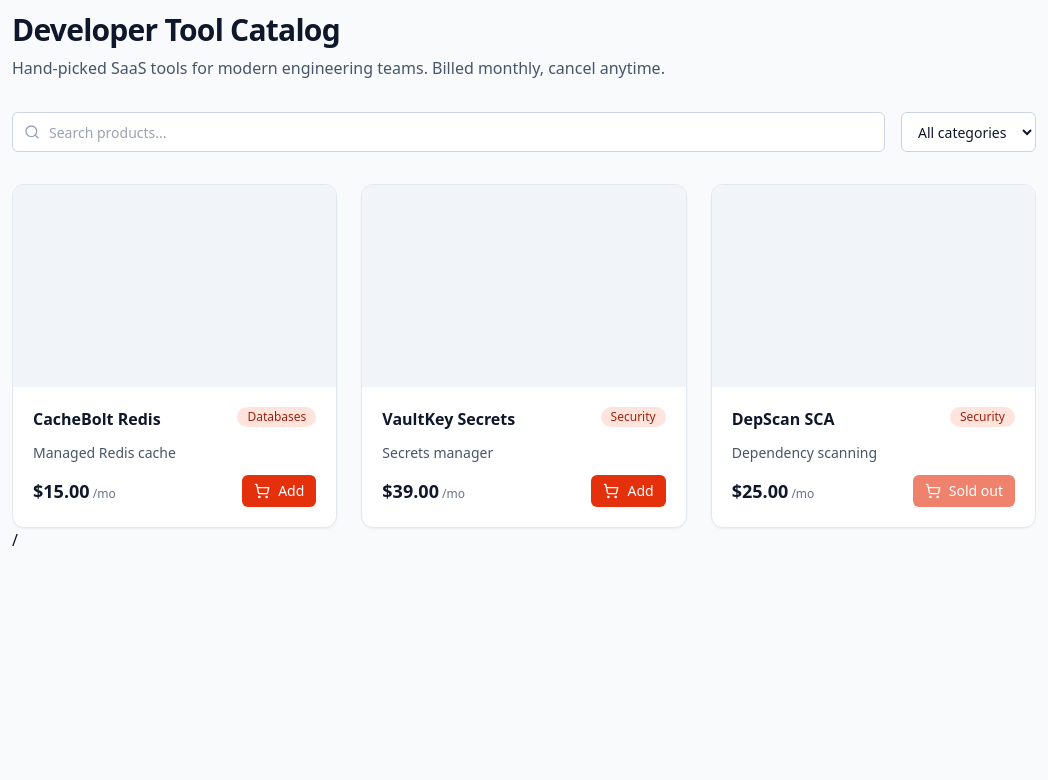
Test: Catalog page › disables Add for out-of-stock products and adds others to the cart
This screenshot has width=1048, height=780.
Expected: the link "CacheBolt Redis" is shown, [33,407,161,431]
Expected: the button "Sold out" is disabled, [913,475,1015,507]
Click the button "Add" in the row of "$15.00". click: click(279, 491)
box: [242,475,316,507]
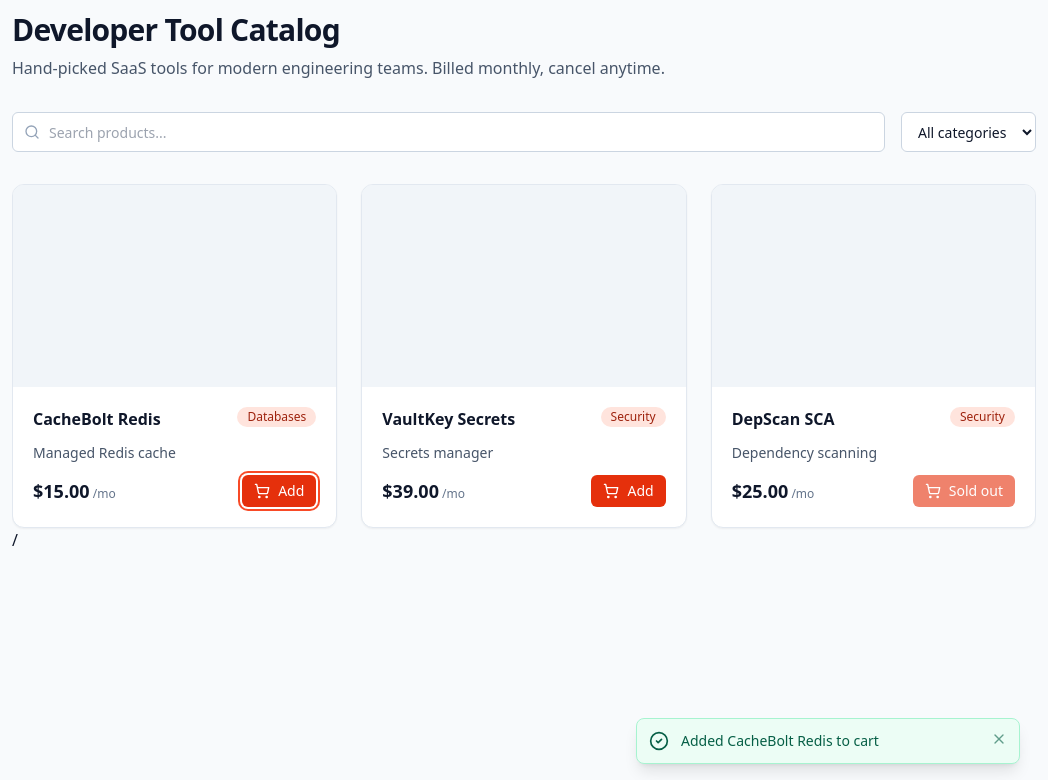
Now the text "Added CacheBolt Redis to cart" is shown, box [681,731,879,750]
